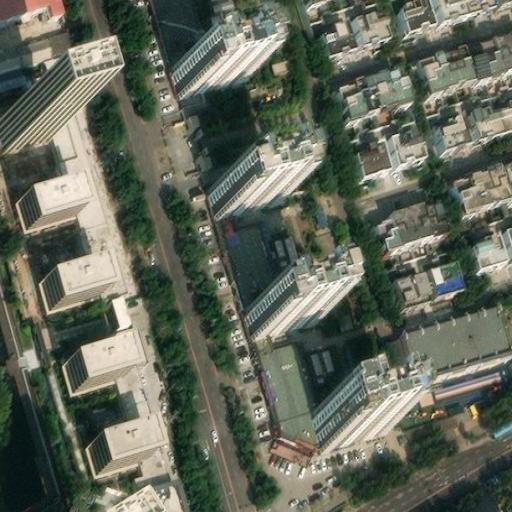building: (215, 201, 327, 446), (46, 92, 122, 288), (399, 298, 511, 374), (114, 332, 169, 475), (190, 94, 270, 175), (154, 0, 209, 88), (314, 380, 389, 442), (243, 279, 319, 338), (336, 65, 412, 120), (175, 39, 249, 95), (369, 202, 449, 252), (408, 48, 473, 104), (388, 262, 462, 309), (452, 162, 512, 215), (86, 416, 151, 464), (214, 166, 282, 211), (63, 335, 128, 381), (0, 24, 71, 66), (40, 253, 103, 298), (17, 174, 78, 220), (458, 40, 512, 88), (107, 487, 176, 512), (386, 127, 425, 166), (350, 8, 388, 47), (469, 232, 507, 268), (433, 115, 470, 151), (316, 21, 352, 57), (353, 139, 388, 176), (433, 0, 493, 21), (0, 58, 31, 82), (112, 290, 135, 322)
